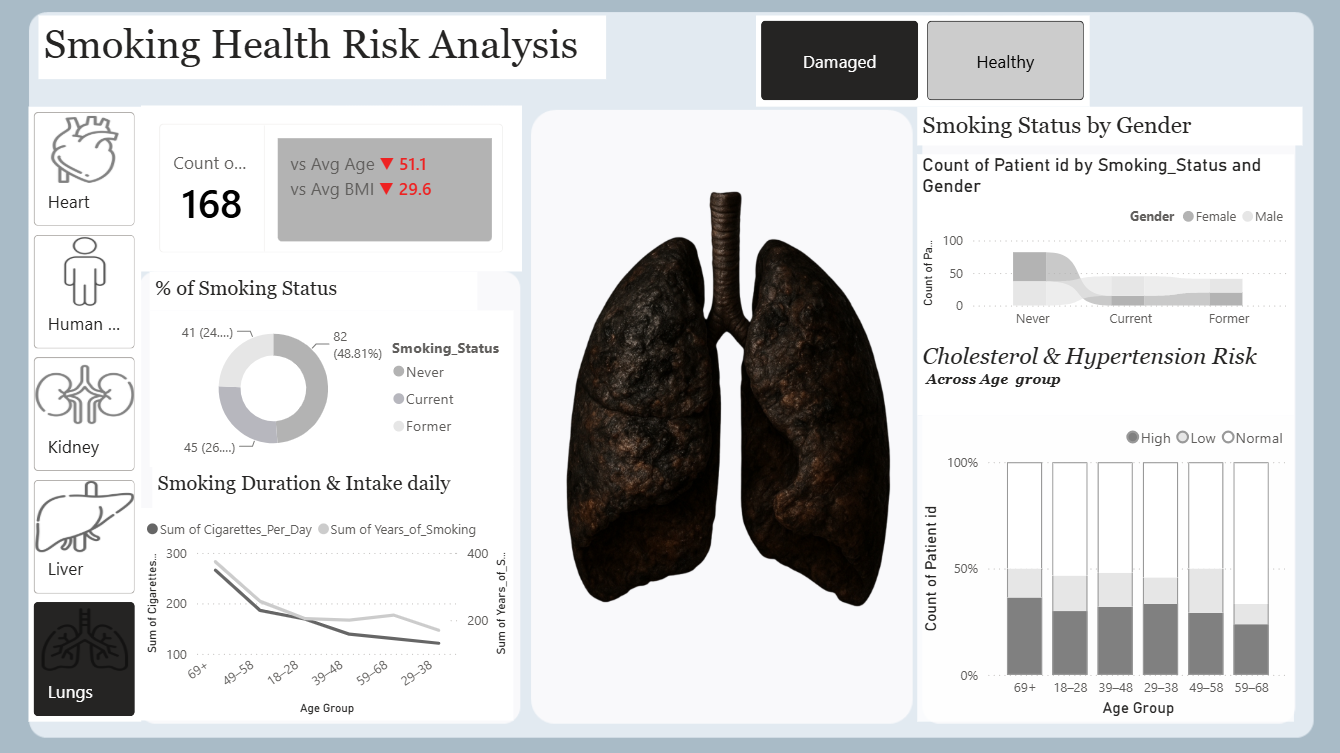

This screenshot's page, from the dashboard's own definition file:
{"tool":"powerbi","page":{"name":"Page 1","canvas":[1280,720],"ordinal":0},"visuals":[{"type":"textbox","box":[48.8,20.9,527.9,59.3],"z":0},{"type":"ribbonChart","fields":{"Category":["health_dataset.Smoking_Status"],"Y":["CountNonNull(health_dataset.Patient_ID)"],"Series":["health_dataset.Gender"]},"box":[866.3,150,350,170.9],"z":1000},{"type":"donutChart","fields":{"Y":["CountNonNull(health_dataset.Patient_ID)"],"Category":["health_dataset.Smoking_Status"]},"box":[152.3,295.3,338.4,145.3],"z":2000},{"type":"lineChart","fields":{"Y2":["Sum(health_dataset.Years_of_Smoking)"],"Y":["Sum(health_dataset.Cigarettes_Per_Day)"],"Category":["health_dataset.Age Group"]},"box":[144.2,479.1,346.5,197.7],"z":3000},{"type":"textbox","box":[152.5,258.8,305,36.2],"z":4000},{"type":"textbox","box":[866.3,105.8,358.1,36],"z":6000},{"type":"textbox","box":[866.3,320.9,350,72.1],"z":7000},{"type":"hundredPercentStackedColumnChart","fields":{"Category":["health_dataset.Age Group"],"Y":["CountNonNull(health_dataset.Patient_ID)"],"Series":["health_dataset.BP_Risk"]},"box":[866.2,392.5,350,285],"z":8000},{"type":"textbox","box":[154.7,440.7,336,38.4],"z":9000},{"type":"advancedSlicerVisual","fields":{"Values":["Organs.Organ"]},"box":[39.5,105.8,104.7,572.1],"z":10000},{"type":"image","box":[514,101.2,352.3,575.6],"z":11000},{"type":"cardVisual","fields":{"Data":["CountNonNull(health_dataset.Patient_ID)"]},"box":[144.4,104.4,354.4,154.4],"z":12000},{"type":"advancedSlicerVisual","fields":{"Values":["health_dataset.Organ_Condition"]},"box":[716.3,20.9,310.5,84.9],"z":13000}]}

Visuals, with their boxes in screenshot pixels (x1, y1, x2, y2), scaled from the page's 1280x720 canvas onto the 1340x753 screenshot:
textbox: l=51, t=22, r=604, b=84
ribbonChart - health_dataset.Smoking_Status x CountNonNull(health_dataset.Patient_ID): l=907, t=157, r=1273, b=336
donutChart - CountNonNull(health_dataset.Patient_ID) x health_dataset.Smoking_Status: l=159, t=309, r=514, b=461
lineChart - Sum(health_dataset.Years_of_Smoking) x Sum(health_dataset.Cigarettes_Per_Day): l=151, t=501, r=514, b=708
textbox: l=160, t=271, r=479, b=309
textbox: l=907, t=111, r=1282, b=148
textbox: l=907, t=336, r=1273, b=411
hundredPercentStackedColumnChart - health_dataset.Age Group x CountNonNull(health_dataset.Patient_ID): l=907, t=410, r=1273, b=709
textbox: l=162, t=461, r=514, b=501
advancedSlicerVisual - Organs.Organ: l=41, t=111, r=151, b=709
image: l=538, t=106, r=907, b=708
cardVisual - CountNonNull(health_dataset.Patient_ID): l=151, t=109, r=522, b=271
advancedSlicerVisual - health_dataset.Organ_Condition: l=750, t=22, r=1075, b=111
